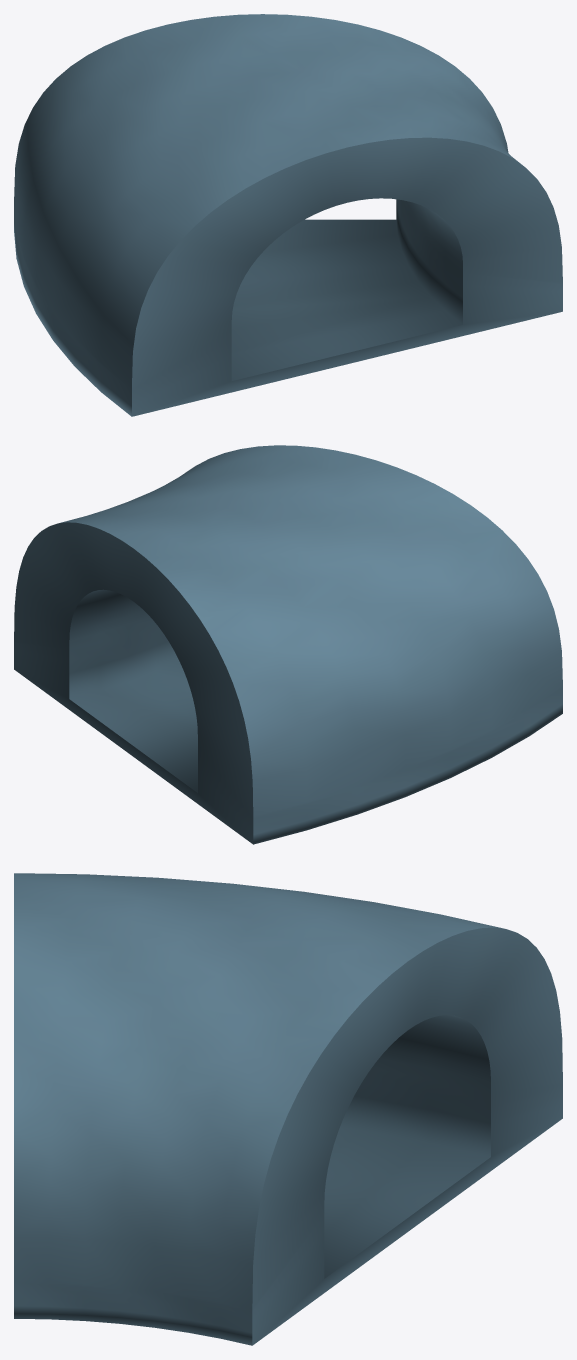
File: curve_right_30_terrain_lod1.glb
3 renders of one model, top to bottom at view 1: azimuth 30°, elevation 25°; view 2: azimuth 150°, elevation 25°; view 3: azimuth 270°, elevation 25°, orthographic. The views are drawn at different scales.
Parts seen in each view (by area): view 1: TerrainRoof.009; view 2: TerrainRoof.009; view 3: TerrainRoof.009.
Part boxes in pixels (x1,y1,x2,y2): TerrainRoof.009: (14, 14, 562, 416); TerrainRoof.009: (14, 445, 562, 844); TerrainRoof.009: (14, 873, 562, 1345).
Bounding box in the file's own units: 31.32 × 13.65 × 25.1.
